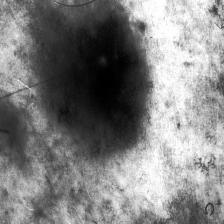Benign Marking or Mole: (46, 16, 144, 155)
